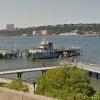Boat: (23, 35, 84, 65)
